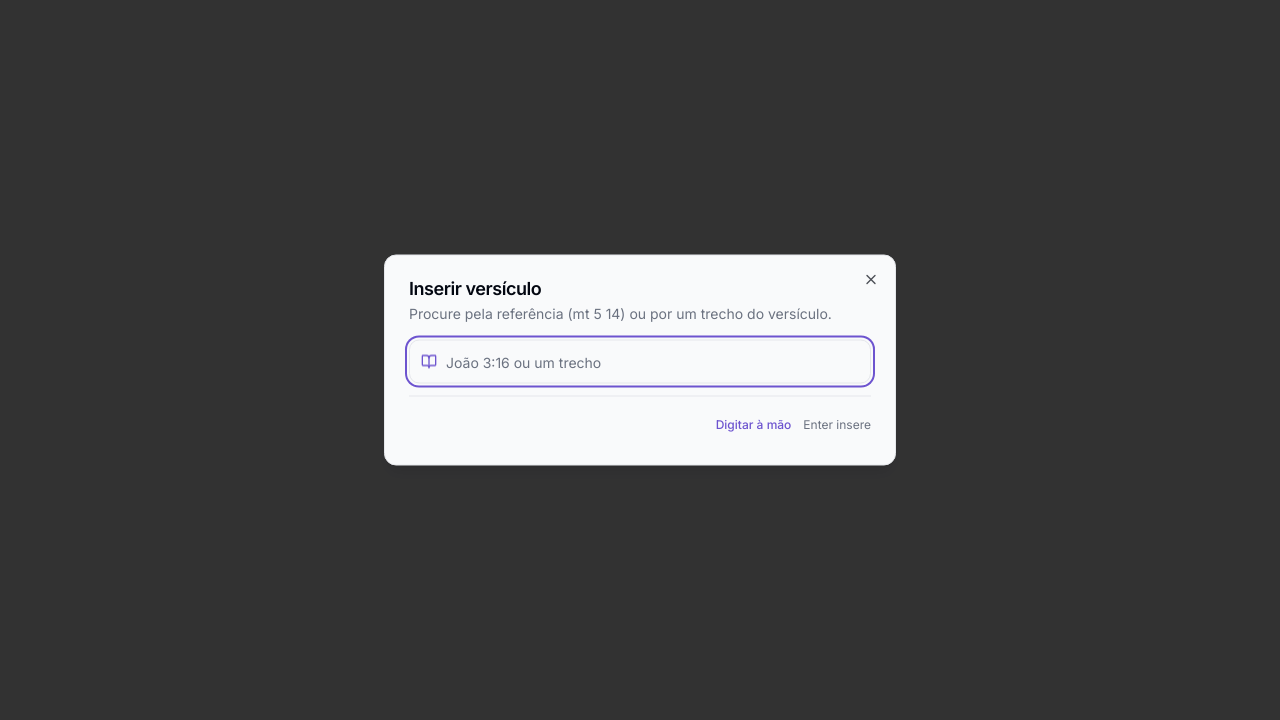
Test case: VerseDialog — busca › erro na busca mostra o aviso de erro
Step 1. Type "mt 5 14" into the dropdown named "Referência ou palavras do versículo" → coordinates (640, 362), box [409,340,871,384]
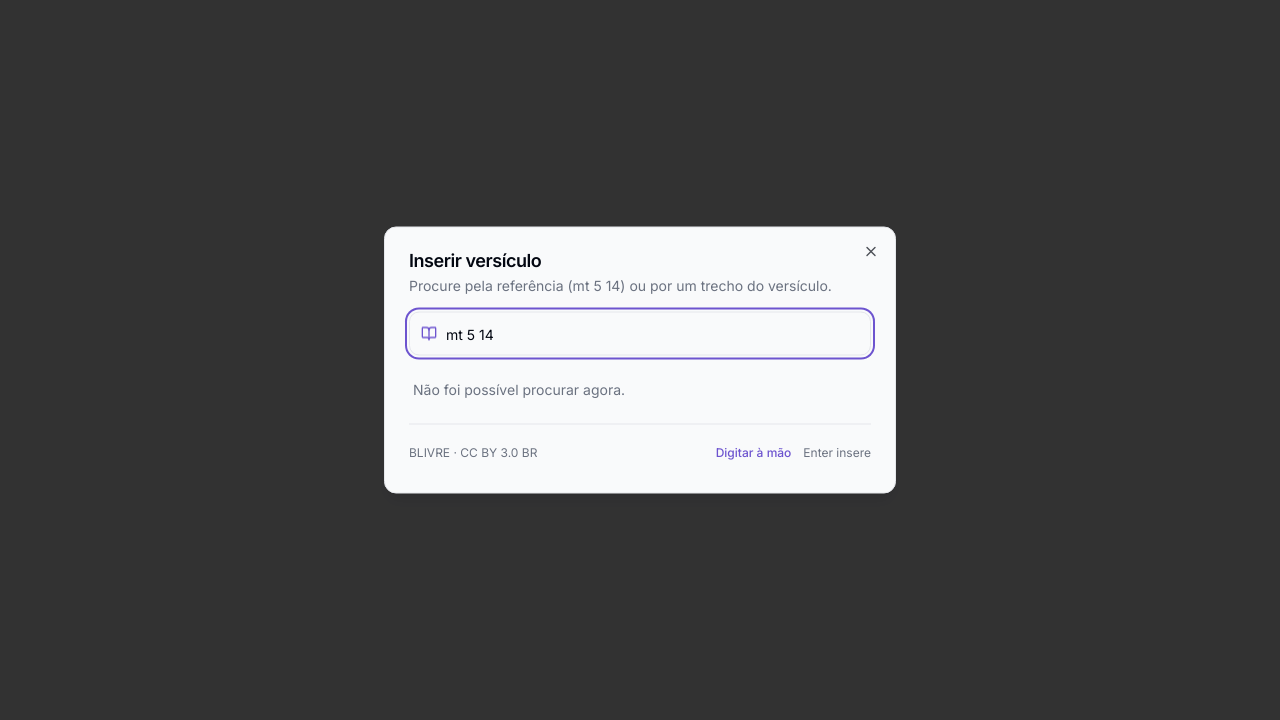
Expected: the text "Não foi possível procurar agora." is shown, [413,380,625,398]
